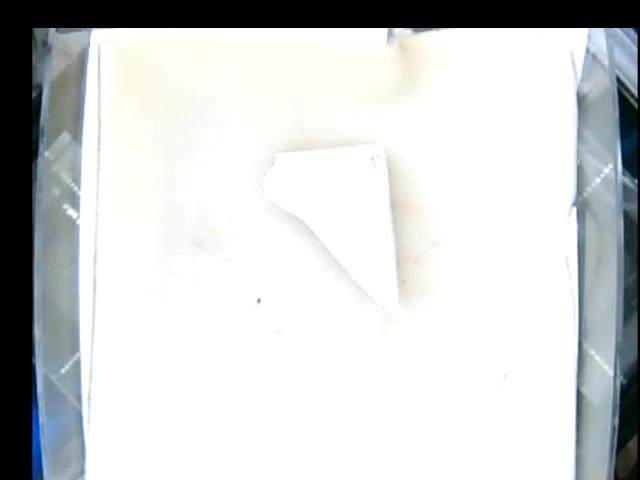China: (263, 146, 399, 314)
